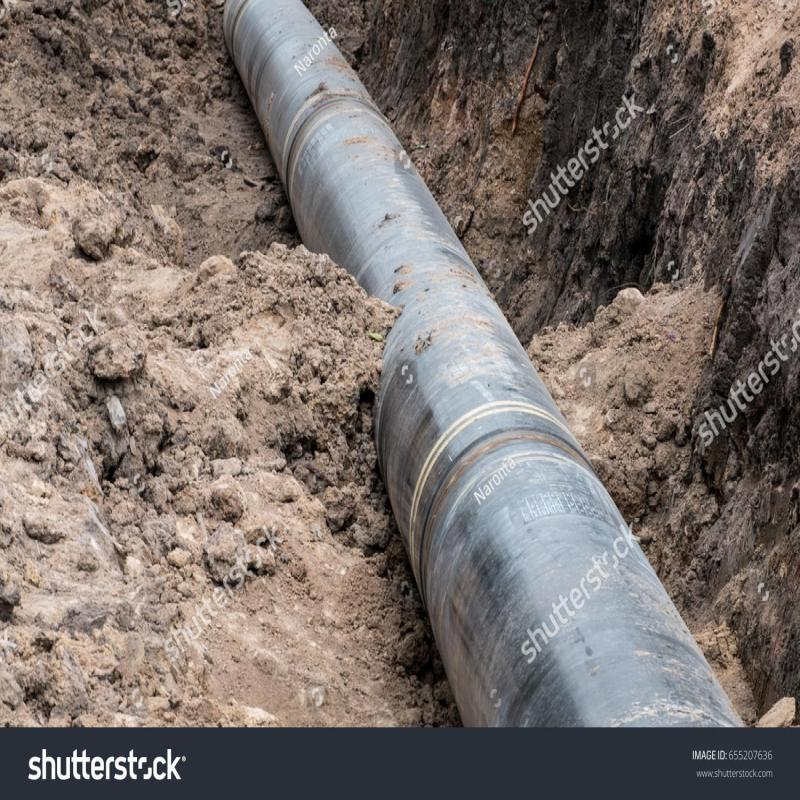Healthy: (219, 15, 745, 756)
